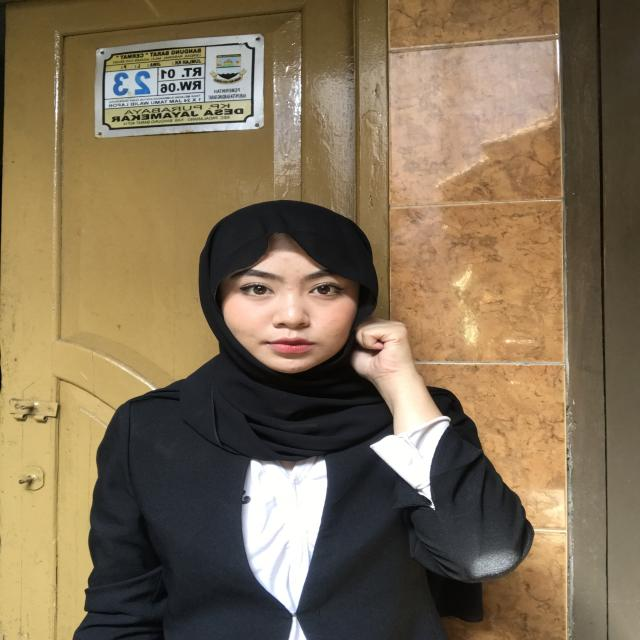ibu: (337, 311, 433, 431)
